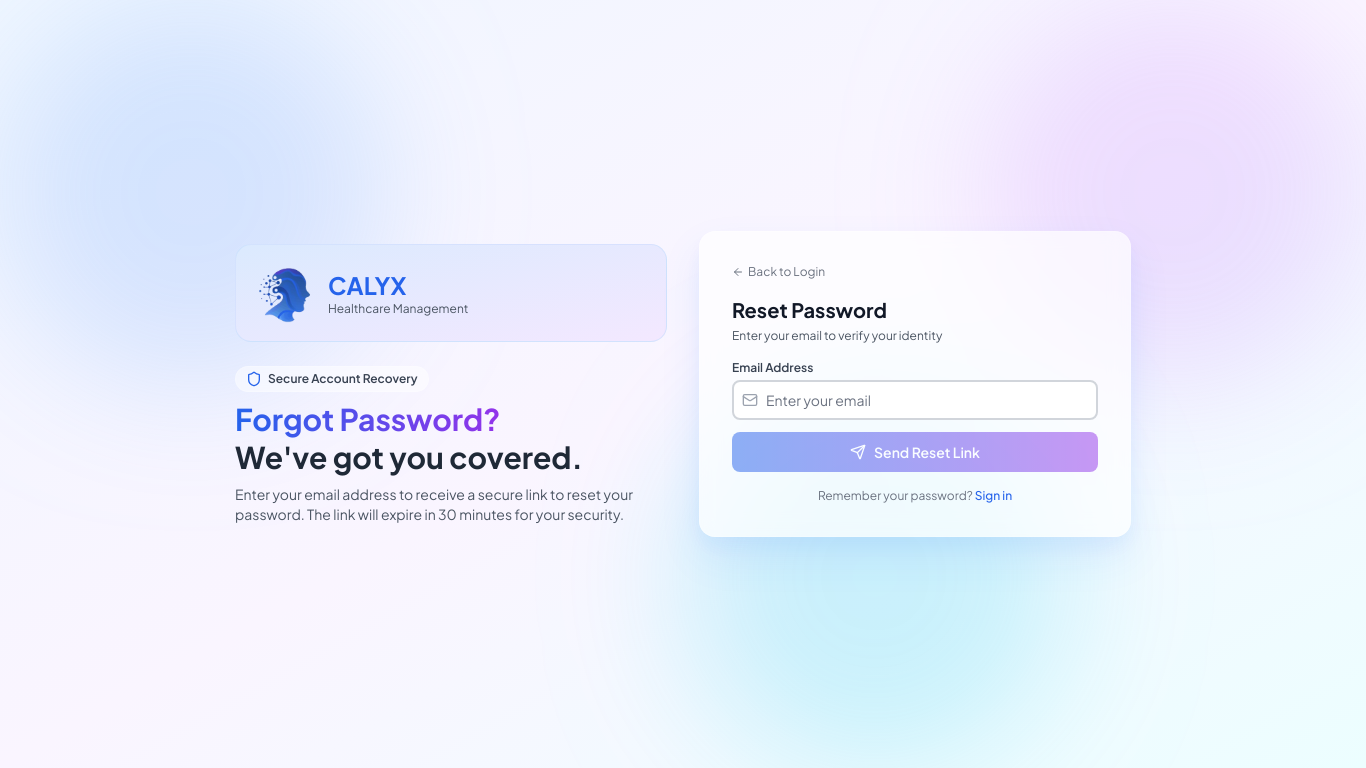
Test: ForgotPassword Page › submits form and shows success message
Type "test@example.com" into the field with placeholder "Enter your email" at (915, 400), box [732,380,1098,420]
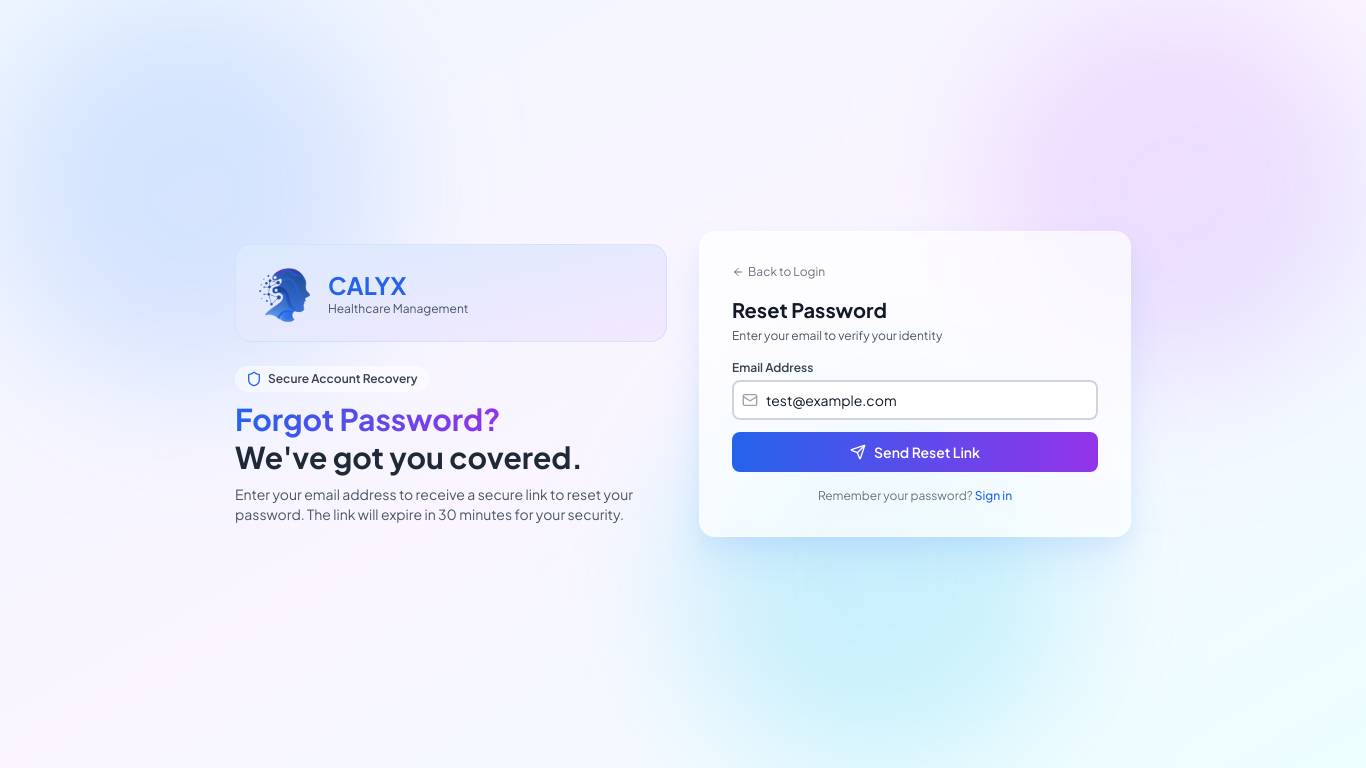
Click the button "Send Reset Link" at (915, 452), box [732,432,1098,472]
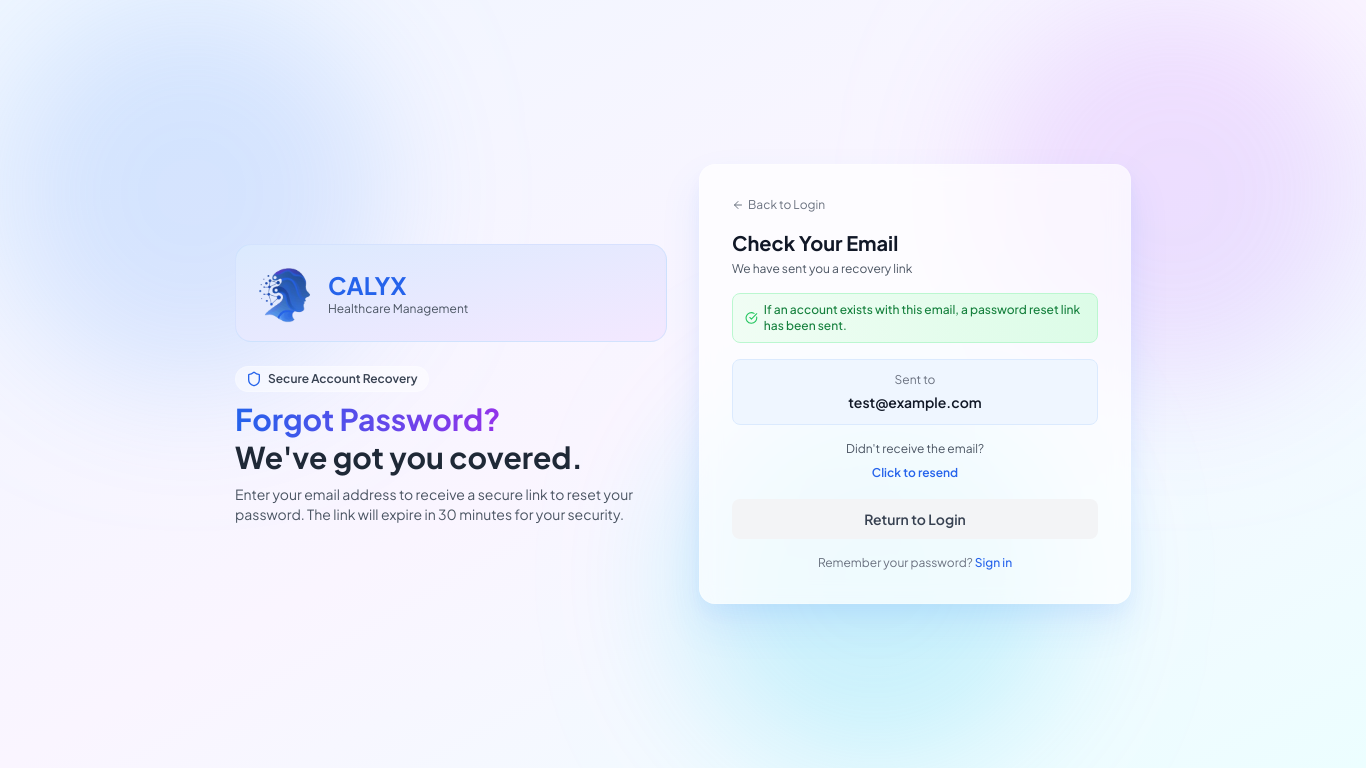
Expected: the text "password reset link has been sent" is shown, [764,302,1080,333]
